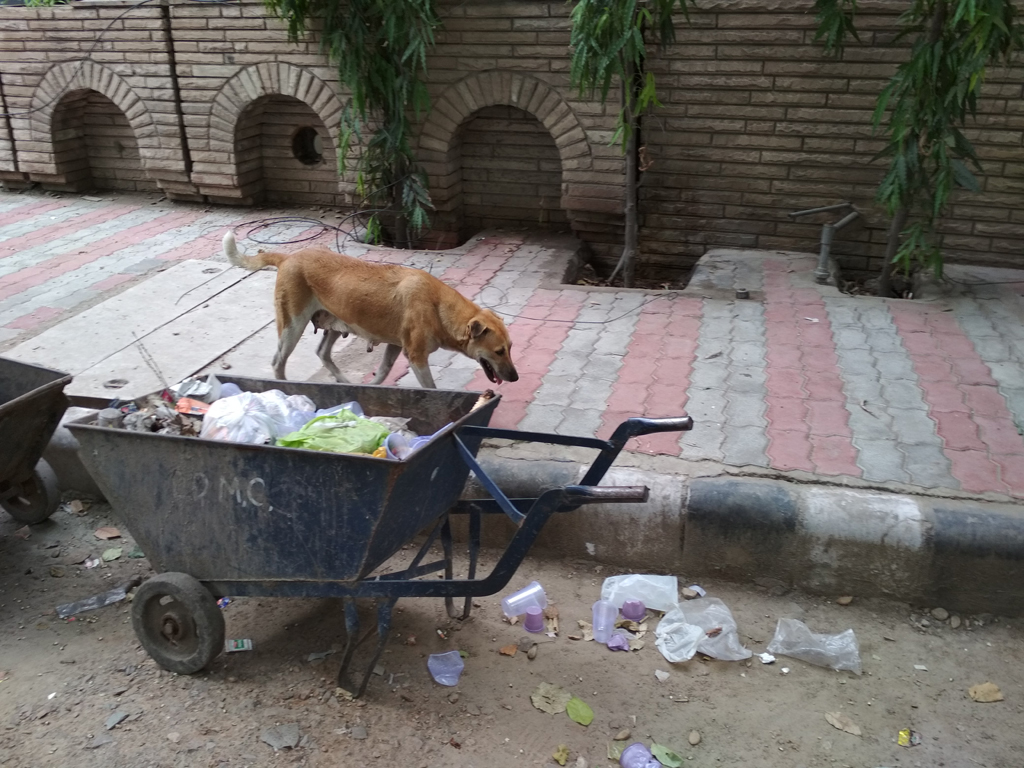dog: (220, 228, 520, 387)
